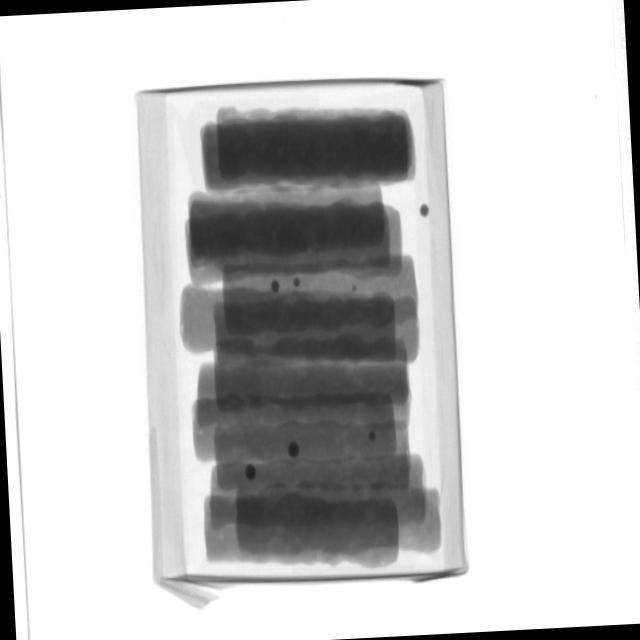ym: (289, 443, 302, 460), (247, 464, 259, 481), (272, 280, 282, 294), (421, 205, 430, 219), (294, 278, 301, 288), (370, 431, 377, 440), (353, 286, 359, 292)
